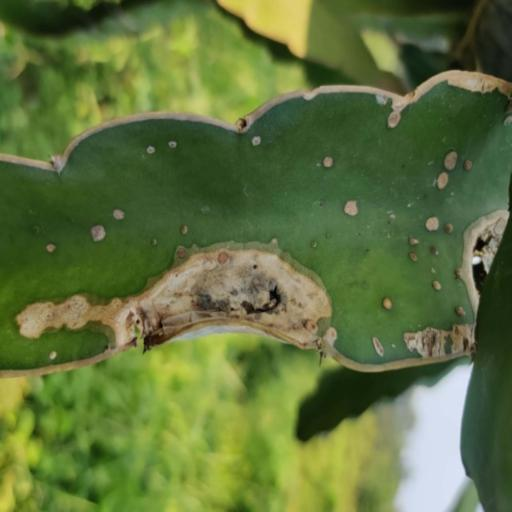stemcanker: (378, 107, 408, 141), (344, 184, 367, 224), (84, 224, 122, 248), (244, 133, 276, 159), (372, 295, 402, 318), (368, 335, 394, 360), (38, 235, 66, 258), (305, 237, 335, 257), (104, 210, 136, 228), (318, 146, 339, 173), (387, 205, 408, 232), (163, 135, 188, 157), (174, 222, 202, 241), (427, 212, 445, 240), (402, 190, 426, 211), (442, 148, 460, 174), (191, 203, 222, 218), (141, 139, 158, 166), (432, 174, 457, 192), (38, 349, 66, 364), (445, 216, 463, 238), (422, 155, 445, 172), (448, 305, 474, 320), (428, 276, 447, 296), (462, 155, 477, 180), (144, 235, 168, 249), (405, 234, 425, 250), (428, 246, 450, 260), (406, 250, 424, 267), (426, 265, 442, 280)
